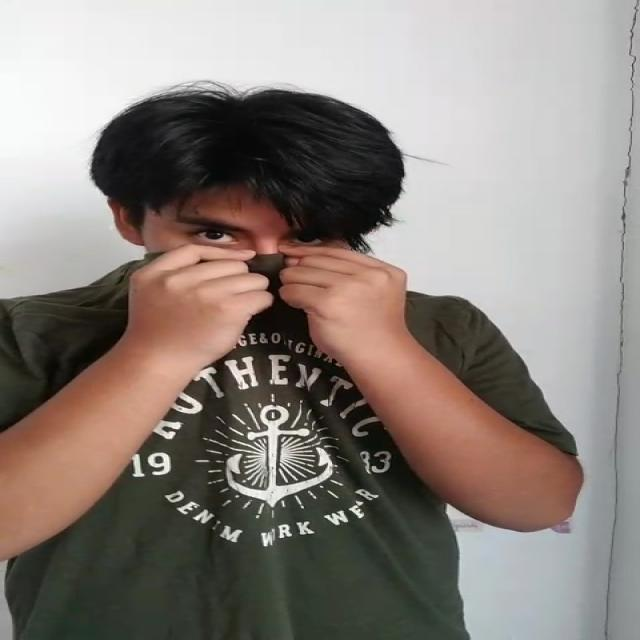8_ropa_rostro: (86, 246, 488, 362)
